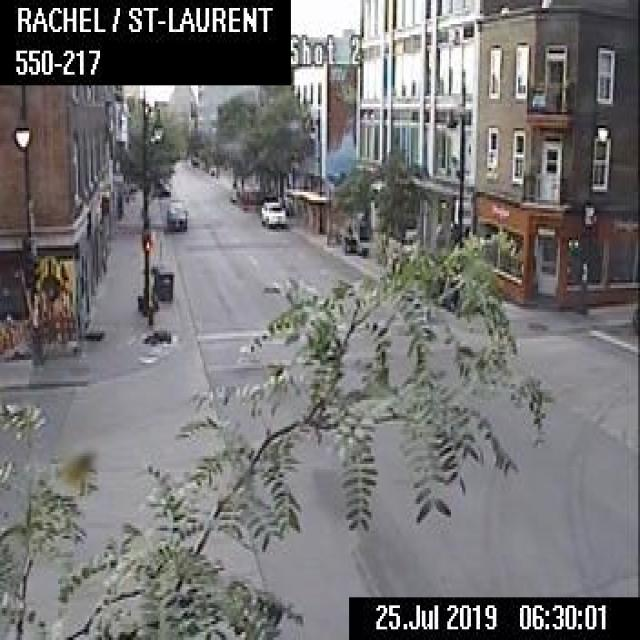vehicle: (165, 200, 186, 230), (259, 200, 285, 224)
